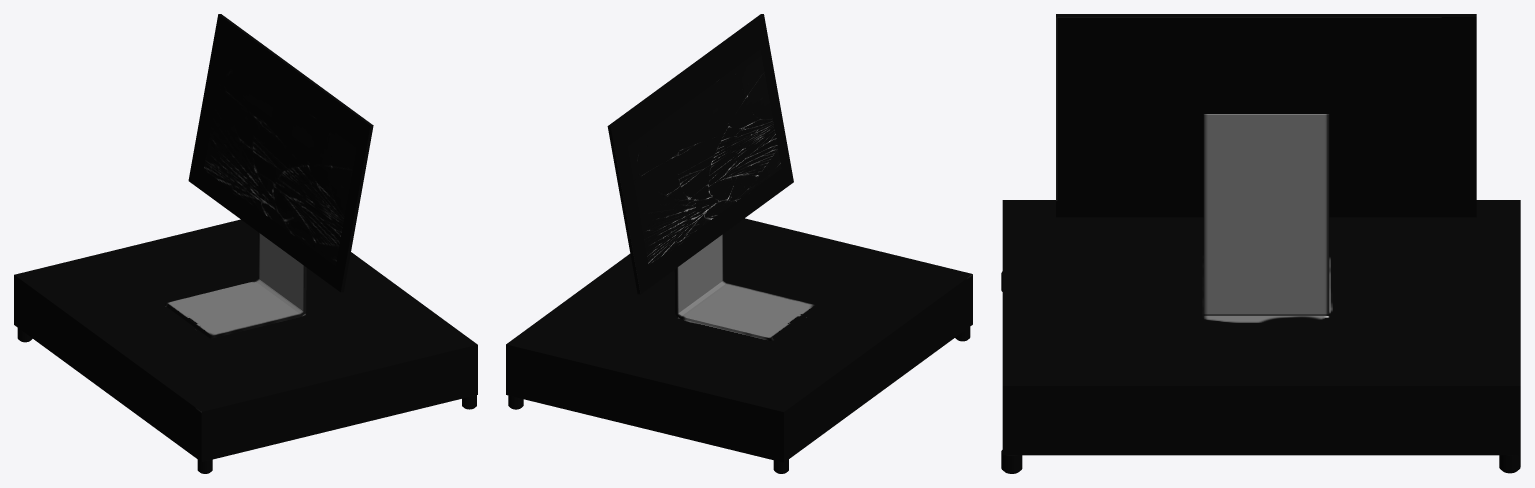
The model's file is Cash Register.fbx.
3 renders of one model, left to right at view 1: azimuth 30°, elevation 25°; view 2: azimuth 150°, elevation 25°; view 3: azimuth 270°, elevation 25°, orthographic. The views are drawn at different scales.
Parts seen in each view (by area): view 1: main thing, screen; view 2: main thing, screen; view 3: main thing, screen.
Part boxes in pixels (x1,y1,x2,y2): main thing: (14, 219, 477, 461); screen: (188, 14, 373, 292); main thing: (506, 218, 972, 462); screen: (607, 14, 793, 294); main thing: (1002, 114, 1520, 455); screen: (1056, 14, 1476, 217).
Size of the model in its own units: 0.4211 by 0.4203 by 0.4935.
